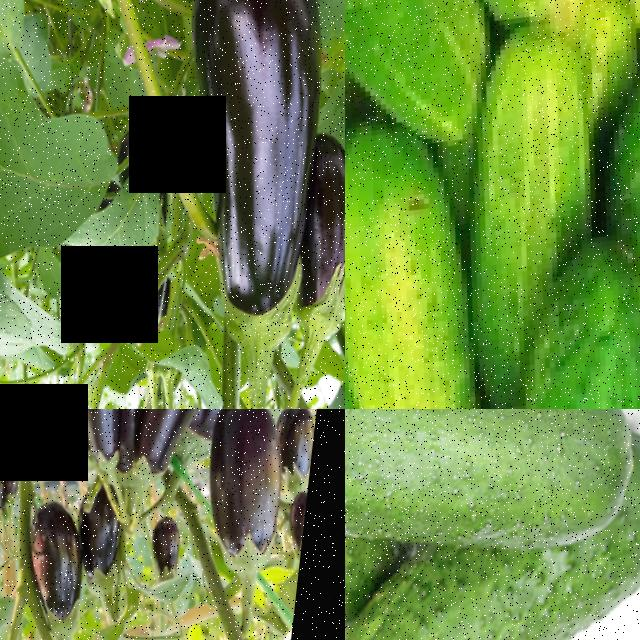cucumber: (345, 409, 640, 588), (345, 136, 518, 409), (464, 22, 628, 284), (345, 544, 630, 640), (517, 234, 640, 409), (345, 0, 472, 118)
eggplant: (152, 0, 345, 352), (198, 409, 313, 576), (290, 137, 345, 342), (32, 496, 109, 640), (128, 409, 220, 489), (84, 506, 140, 597), (72, 409, 146, 471), (279, 409, 325, 482), (36, 409, 102, 457), (156, 512, 200, 580), (292, 485, 318, 560)
